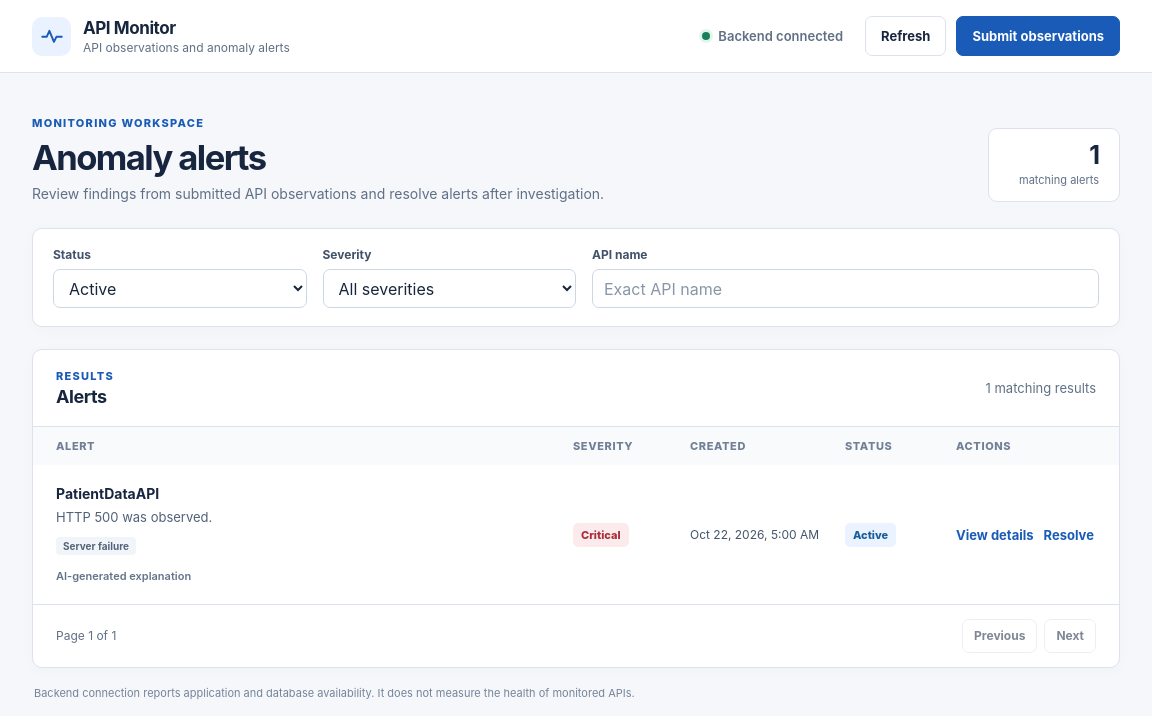
resolution failure leaves the alert available and shows the error
Check: the text "PatientDataAPI" is shown, box [56,486,159,502]
Click the button "Resolve". click: (1069,534)
box: [1044,522,1094,546]
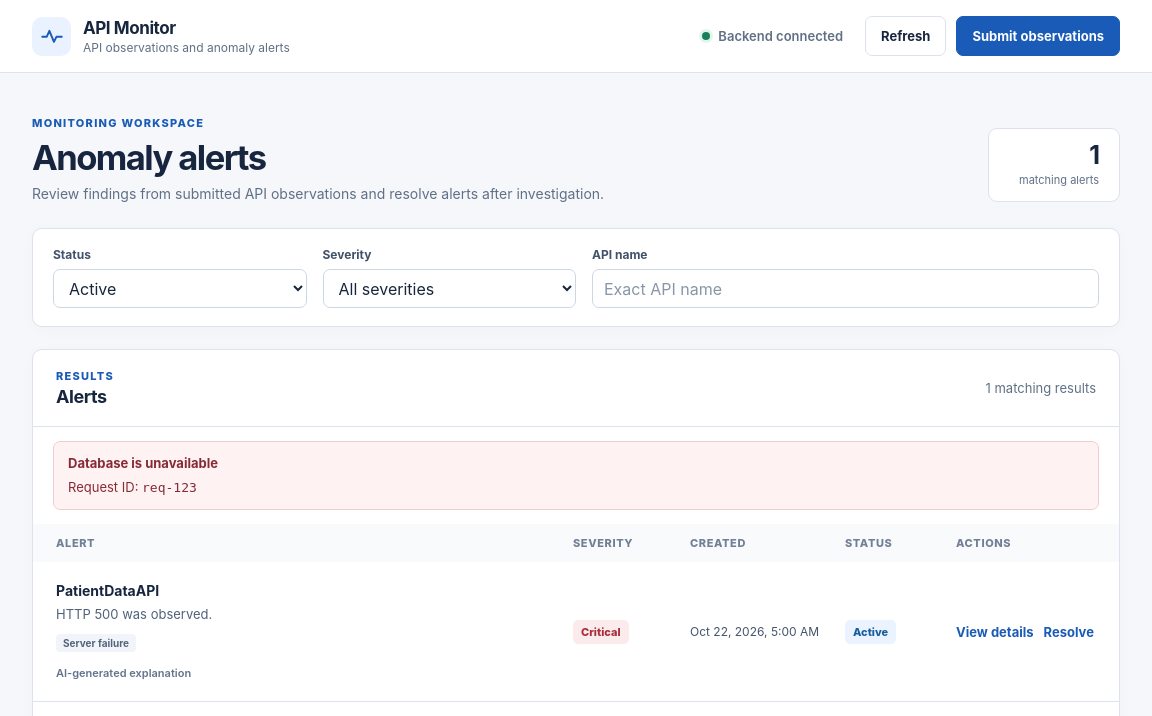
Check: the text "PatientDataAPI" is shown, box [56,582,159,600]
Check: the text "Database is unavailable" is shown, box [68,456,218,472]
Check: the text "req-123" is shown, box [142,480,197,495]
